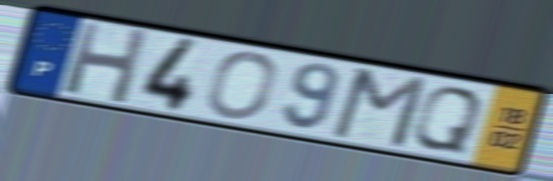4: (138, 34, 201, 114)
9: (278, 61, 343, 132)
H: (59, 19, 152, 108)
M: (327, 65, 432, 152)
O: (203, 50, 282, 122)
Q: (408, 84, 488, 156)
